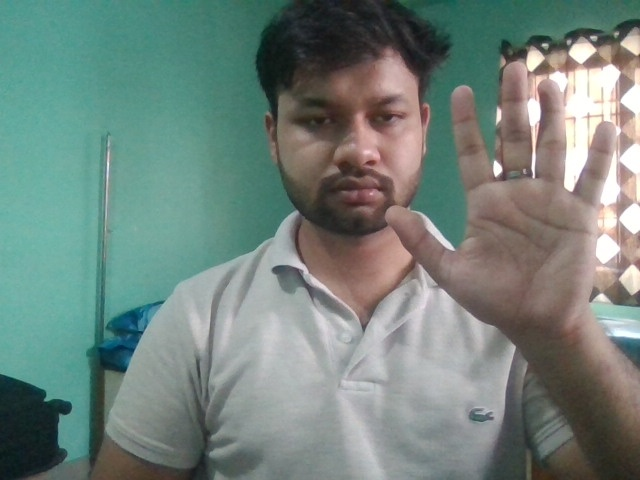Hello: (384, 58, 619, 350)
